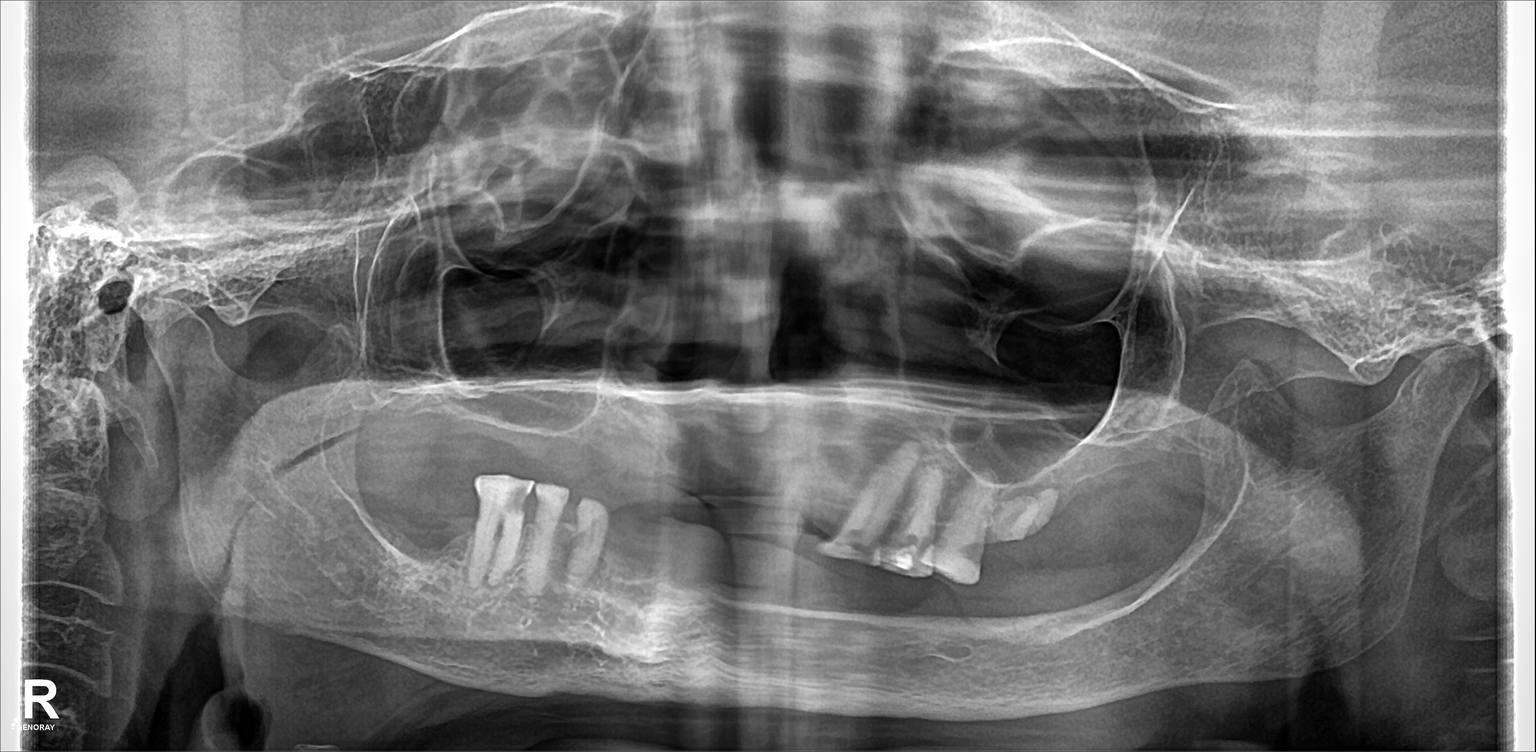Dental Caries: (499, 480, 541, 520)
Missing Tooth: (814, 382, 864, 483), (426, 478, 472, 587), (669, 378, 709, 481), (752, 378, 797, 468), (1063, 564, 1119, 634), (566, 382, 611, 465), (518, 380, 562, 457), (1067, 439, 1107, 521), (1127, 432, 1167, 512), (378, 382, 416, 466), (616, 512, 642, 634), (423, 380, 460, 465), (624, 382, 660, 463), (708, 545, 748, 615), (657, 527, 688, 617), (385, 477, 413, 575), (719, 385, 746, 484), (916, 584, 958, 645), (477, 383, 508, 465), (864, 583, 903, 645), (1129, 553, 1174, 606), (767, 547, 796, 626), (970, 588, 1015, 637), (818, 568, 848, 640), (1028, 571, 1052, 629)
